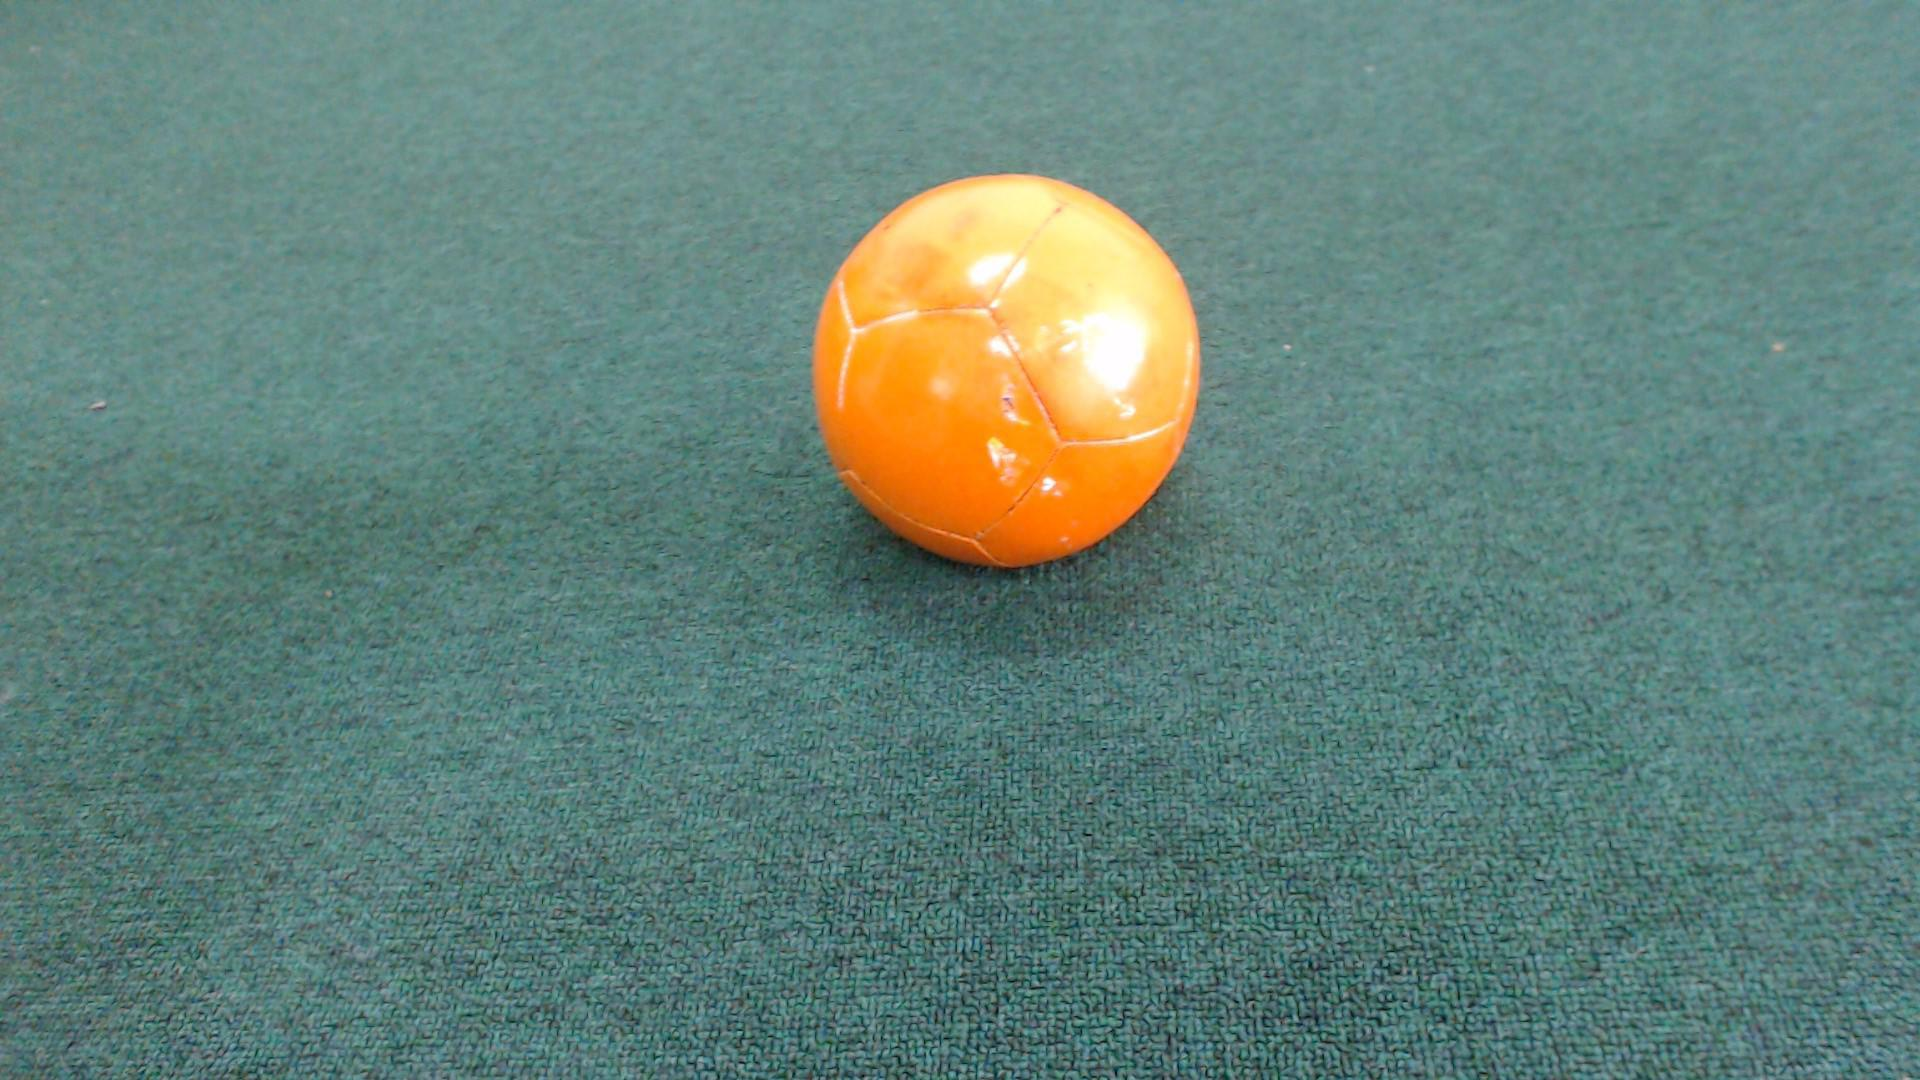bola: (794, 157, 1212, 597)
